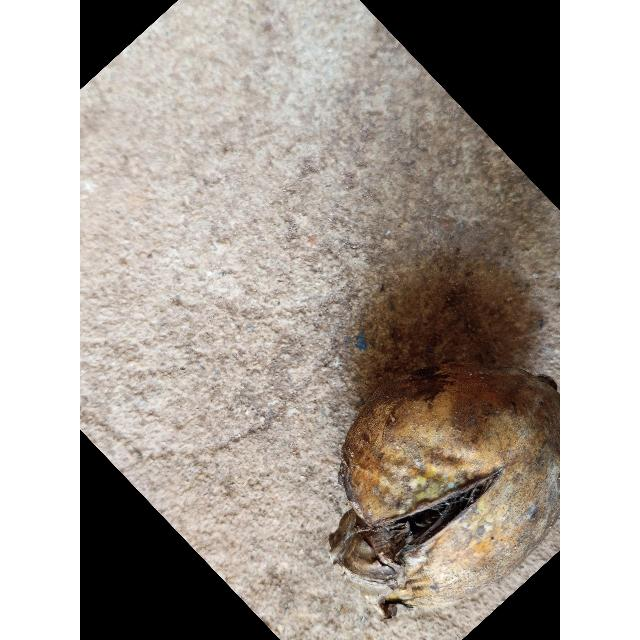damaged: (329, 362, 560, 619)
